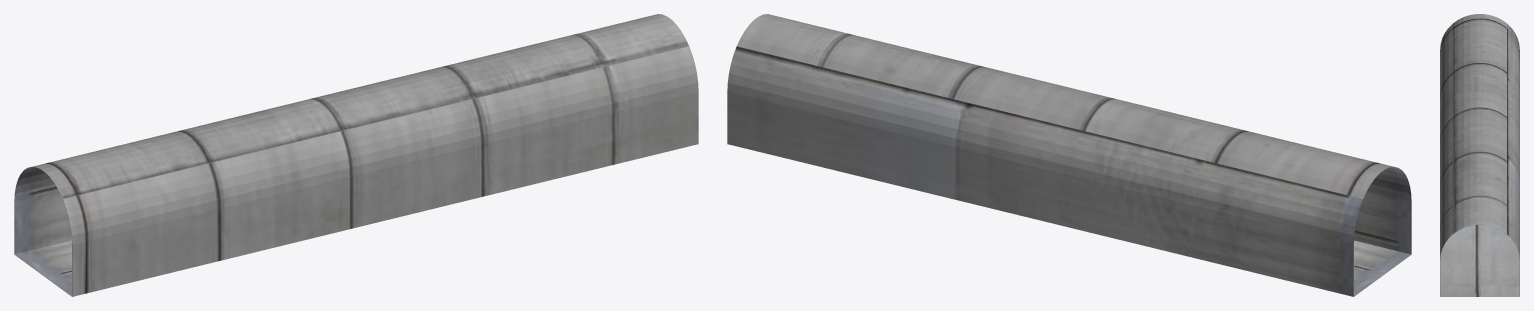
The model's file is tunnel_straight.dae.
3 views of the same model, side by side, from view 1: azimuth 30°, elevation 25°; view 2: azimuth 150°, elevation 25°; view 3: azimuth 270°, elevation 25° (orthographic). The views are drawn at different scales.
Parts seen in each view (by area): view 1: tunnel_straight; view 2: tunnel_straight; view 3: tunnel_straight.
Boxes of the visible parts, x1,y1,x2,y2 form: tunnel_straight: (14, 14, 698, 296); tunnel_straight: (727, 14, 1411, 296); tunnel_straight: (1440, 14, 1519, 296).
Size of the model in its own units: 50 by 8 by 7.99.
1 material, 1 textured.
